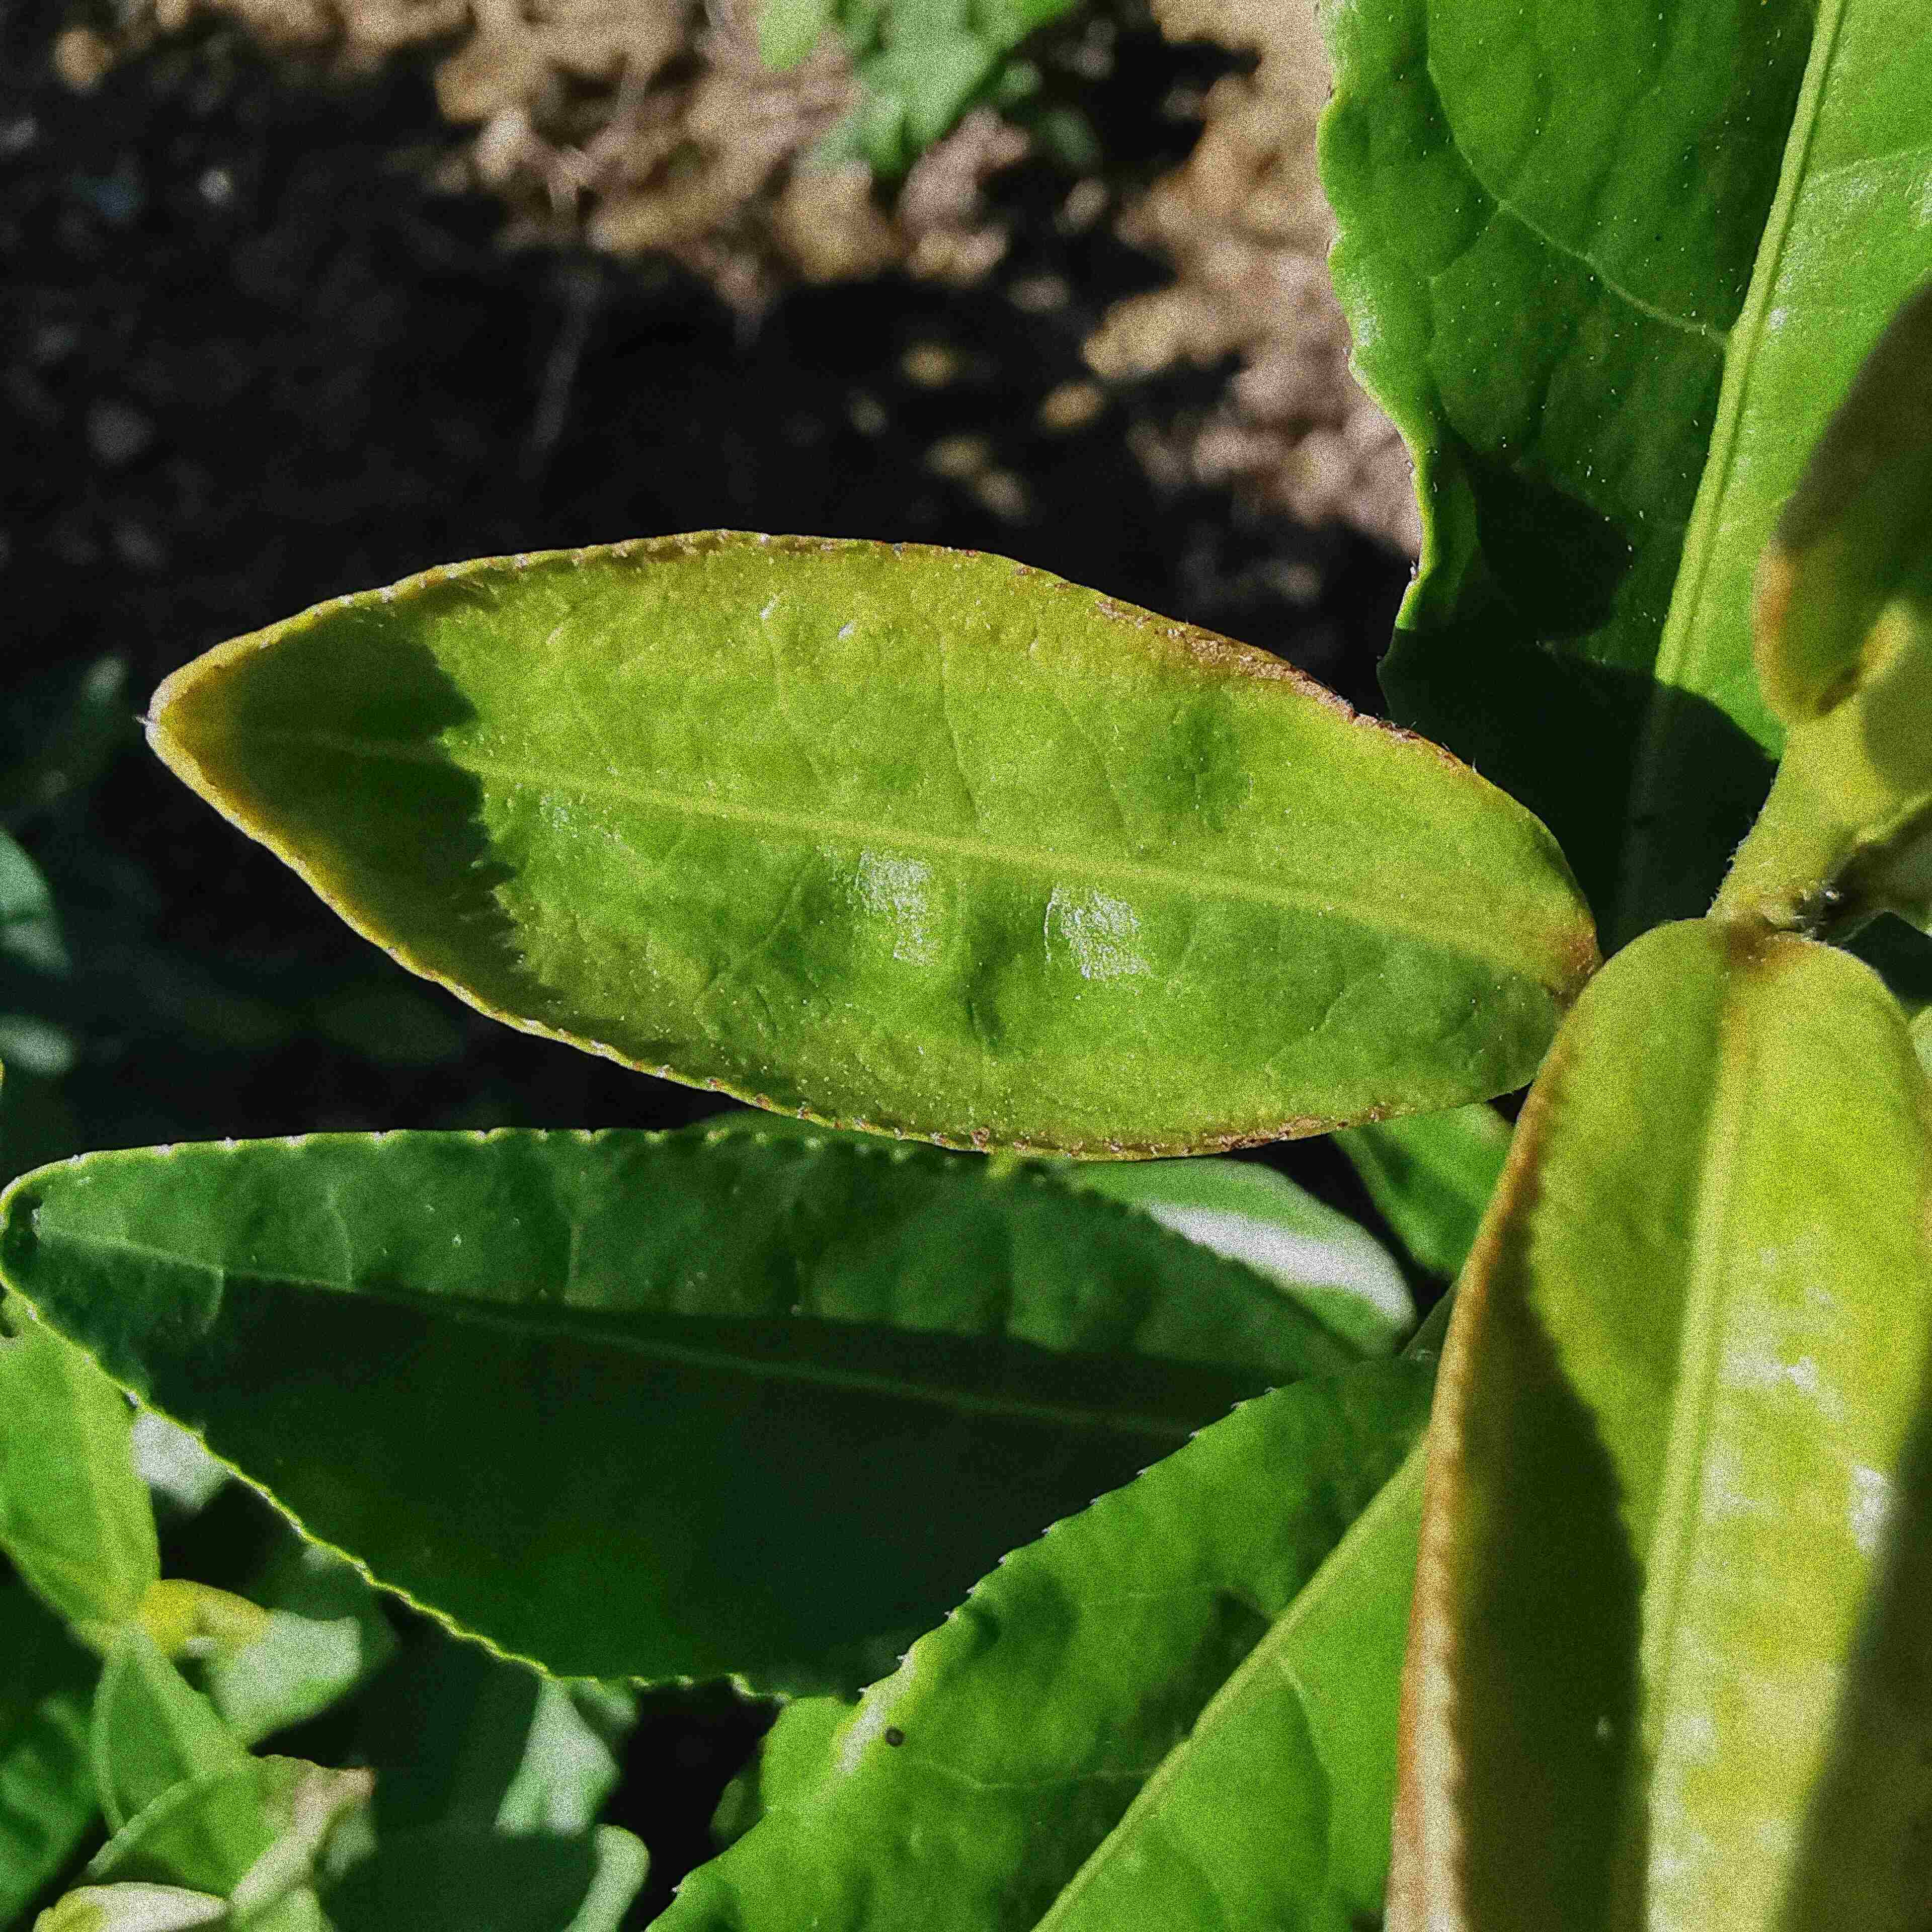healthy: (4, 1118, 1380, 1704)
tanju_low: (152, 527, 1601, 1162), (1378, 913, 1930, 1932)
